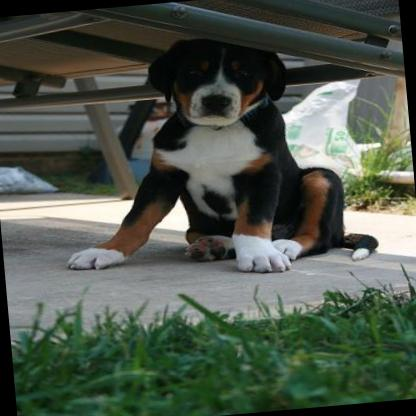Greater_Swiss_Mountain_dog: (46, 20, 380, 290)
